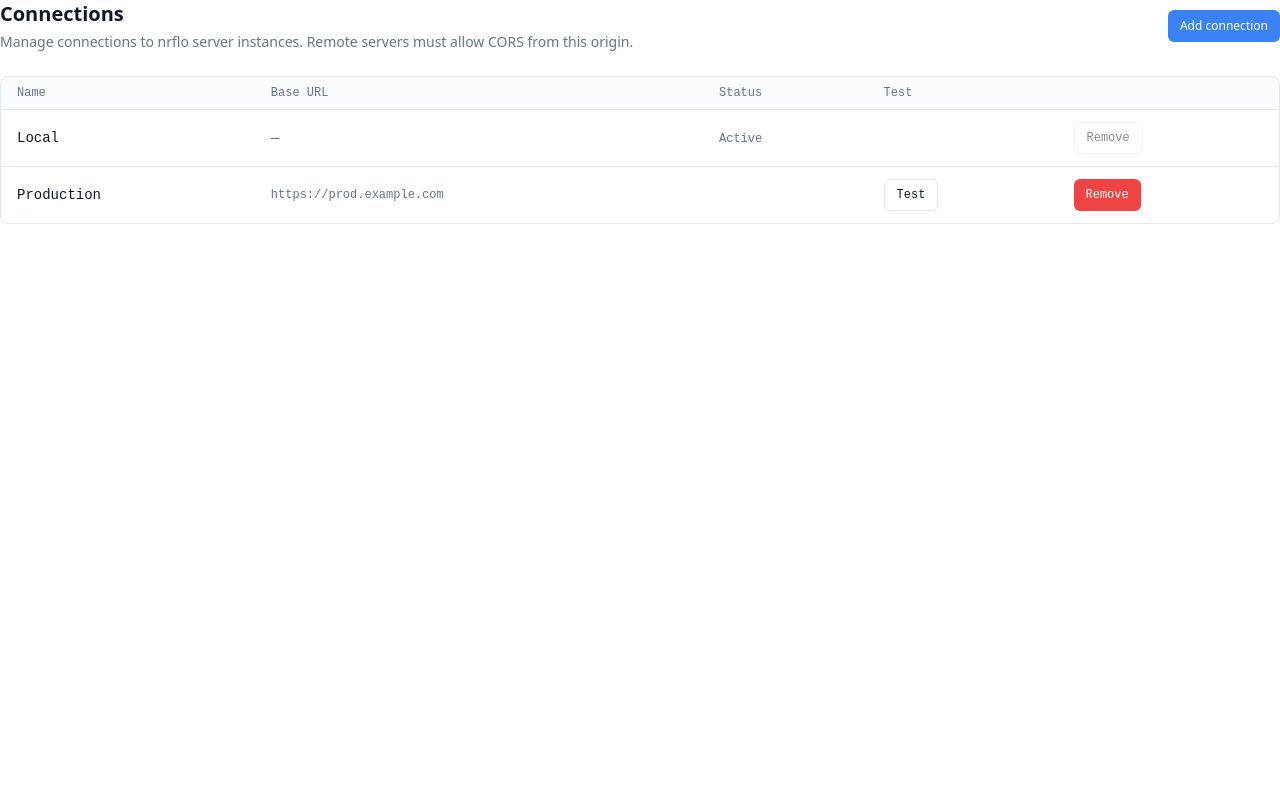
it: ConnectionsSection - remove flow › clicking Remove opens confirmation dialog
The width and height of the screenshot is (1280, 800).
Click the button "Remove" in the row of "Production" at (1107, 195), box left=1074, top=179, right=1141, bottom=211
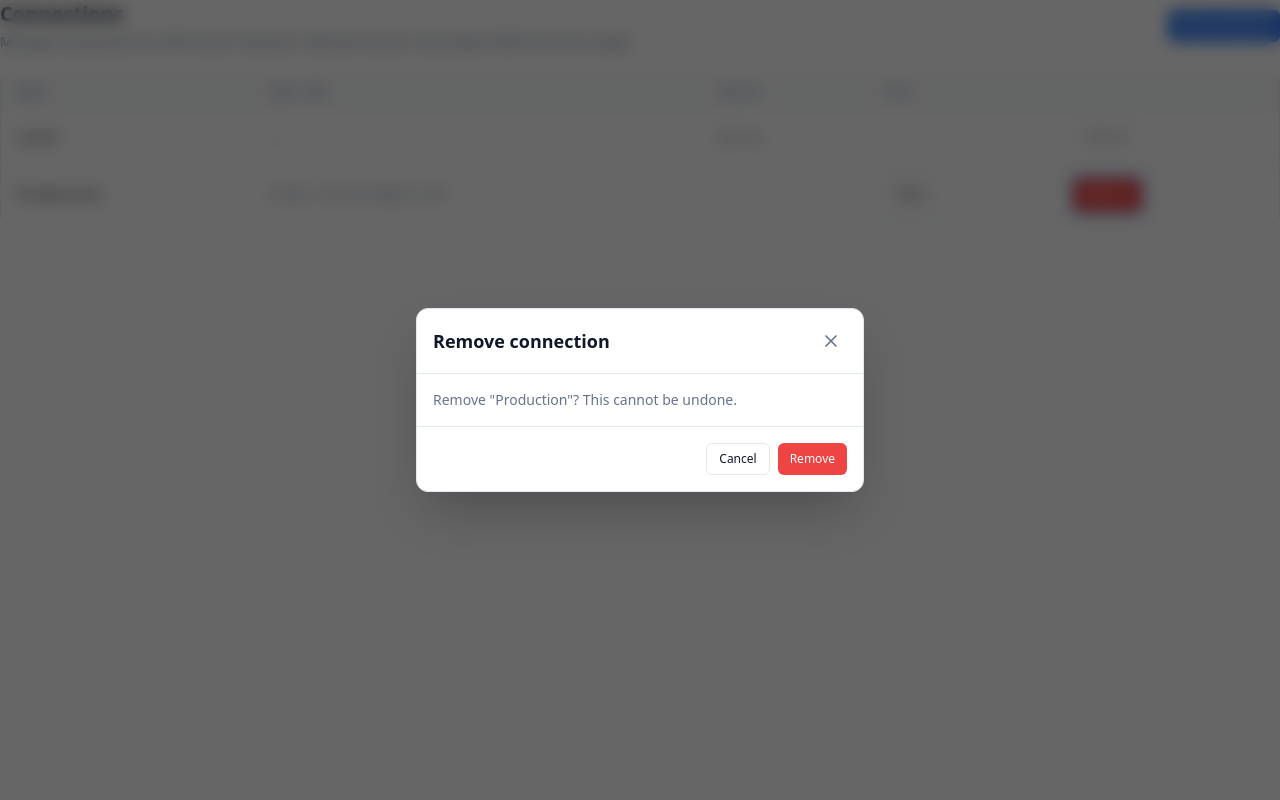
Check: the heading "Remove connection" is shown, box left=433, top=329, right=610, bottom=353
Check: the text "Remove \"Production\"? This cannot be undone." is shown, box left=433, top=390, right=737, bottom=409
